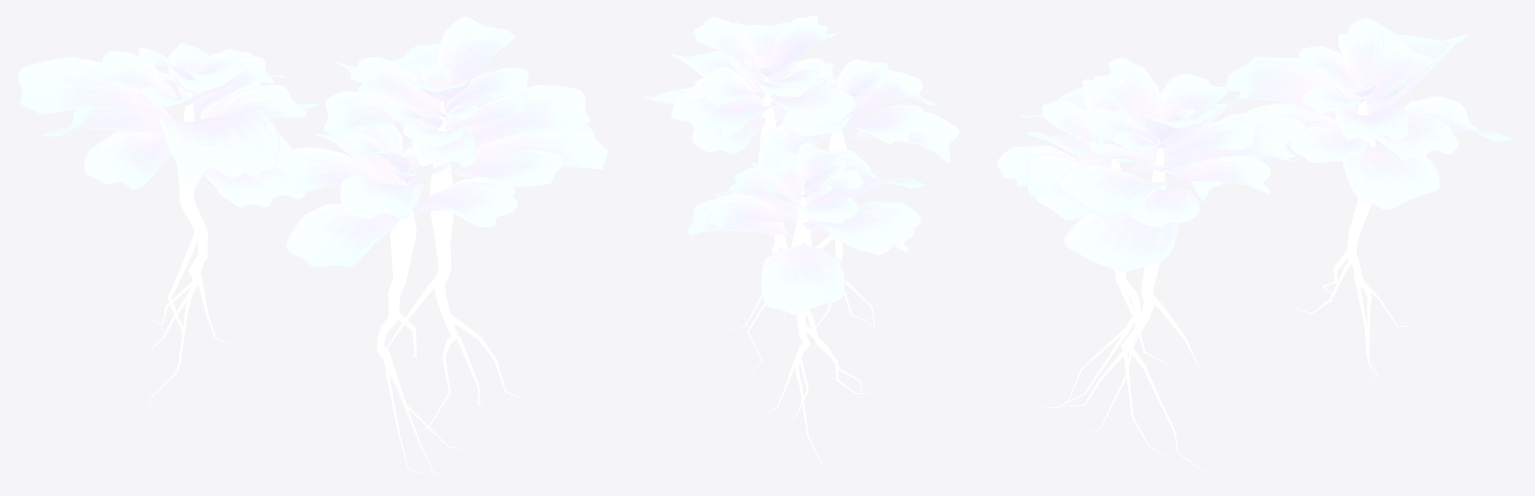
3 views of the same model, side by side, from view 1: azimuth 30°, elevation 25°; view 2: azimuth 150°, elevation 25°; view 3: azimuth 270°, elevation 25° (orthographic). The views are drawn at different scales.
Visible parts, largest first — view 1: SM_FH_Water_Lettuce_03_LOD0; view 2: SM_FH_Water_Lettuce_03_LOD0; view 3: SM_FH_Water_Lettuce_03_LOD0.
Part boxes in pixels (box(x1,y1,x2,y2)): SM_FH_Water_Lettuce_03_LOD0: box(18, 17, 608, 479); SM_FH_Water_Lettuce_03_LOD0: box(644, 15, 959, 480); SM_FH_Water_Lettuce_03_LOD0: box(997, 17, 1513, 479).
Bounding box in the file's own units: 0.8158 × 0.7199 × 0.8682.
Materials: 1 (1 with a texture image).
